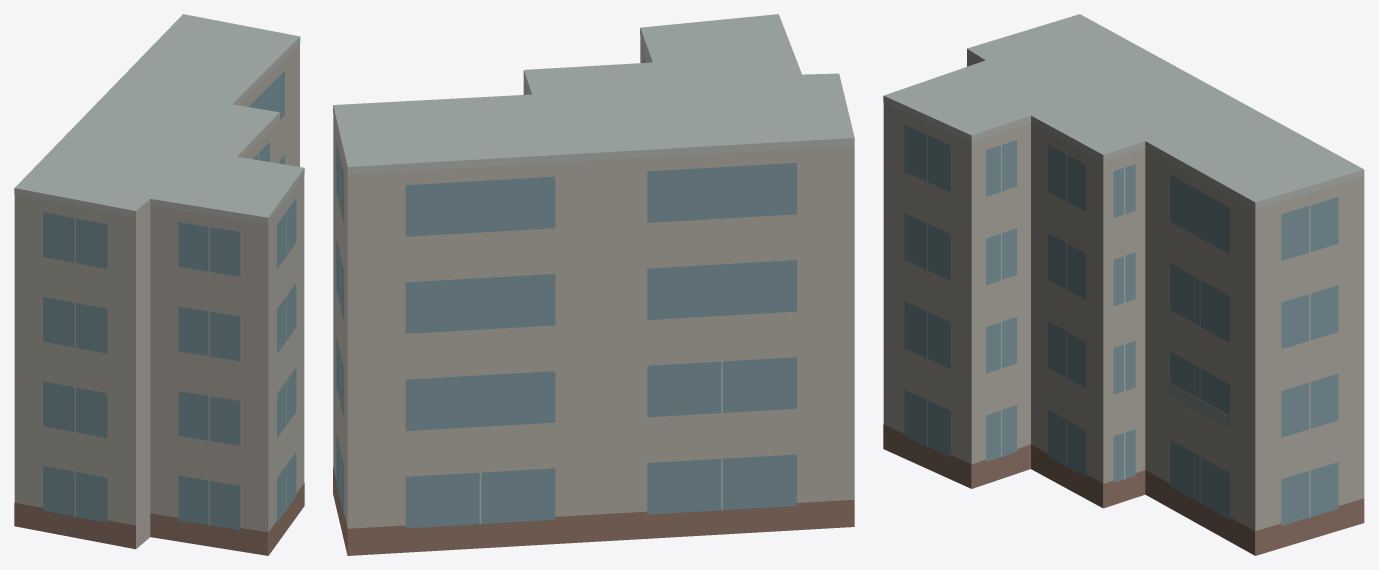
File: survey-upis-32590228.glb
3 views of the same model, side by side, from view 1: azimuth 30°, elevation 25°; view 2: azimuth 150°, elevation 25°; view 3: azimuth 270°, elevation 25° (orthographic). The views are drawn at different scales.
Parts seen in each view (by area): view 1: survey-upis-32590228.tmp; view 2: survey-upis-32590228.tmp; view 3: survey-upis-32590228.tmp.
Boxes of the visible parts, left/top/right/bottom form: survey-upis-32590228.tmp: left=14, top=14, right=304, bottom=555; survey-upis-32590228.tmp: left=333, top=14, right=854, bottom=555; survey-upis-32590228.tmp: left=883, top=14, right=1364, bottom=555.
Bounding box in the file's own units: 14.31 × 12.5 × 15.42.
